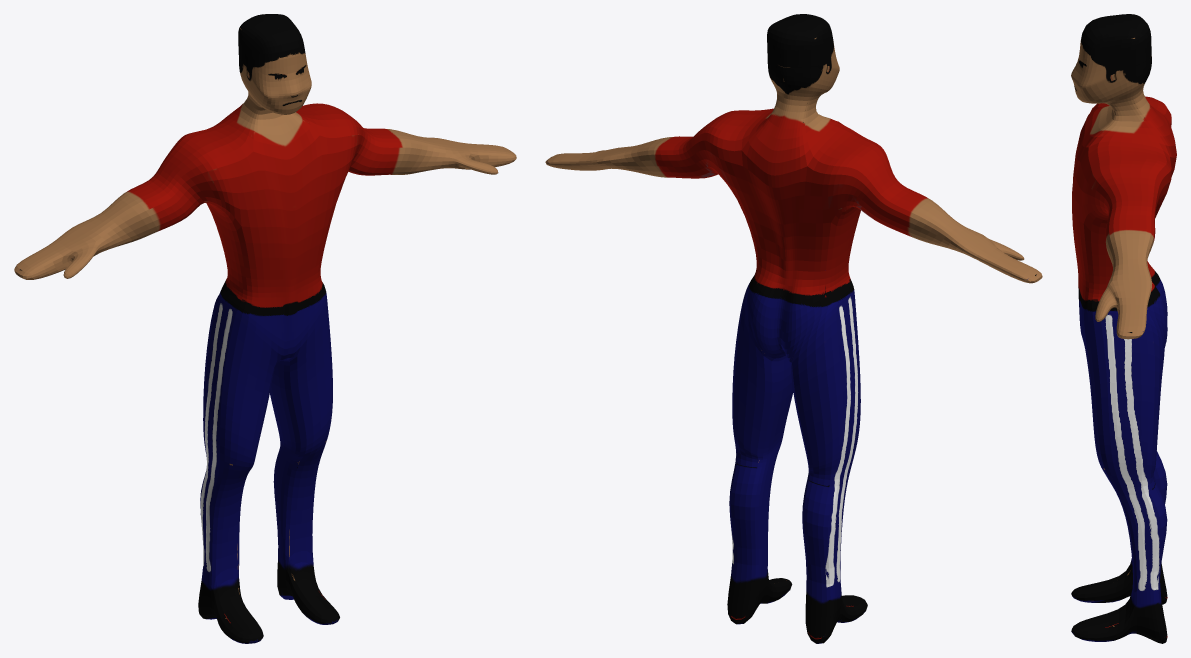
File: OgPlayerCharNoRig.fbx
The picture shows the model from 3 angles, left to right: view 1: azimuth 30°, elevation 25°; view 2: azimuth 150°, elevation 25°; view 3: azimuth 270°, elevation 25°; orthographic projection.
Parts seen in each view (by area): view 1: PlayerCharacterModel; view 2: PlayerCharacterModel; view 3: PlayerCharacterModel.
Boxes of the visible parts, x1,y1,x2,y2 form: PlayerCharacterModel: (14, 14, 516, 643); PlayerCharacterModel: (545, 14, 1042, 643); PlayerCharacterModel: (1071, 14, 1176, 643).
Bounding box in the file's own units: 156 × 182 × 28.94.
